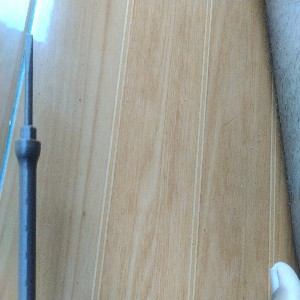obeng: (12, 33, 42, 300)
